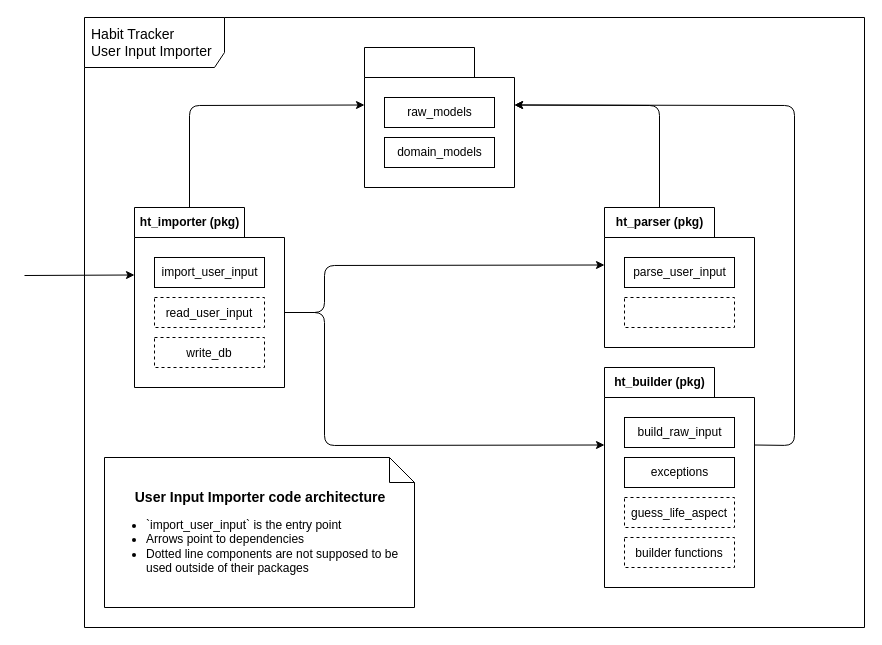
Image size: 882x645. Some labels were removed from this diagram. The centre of each missing label's shape, as x and y in pixels:
"ht_models (pkg)" goes at pixel 439 117.
"parser functions" goes at pixel 679 312.
